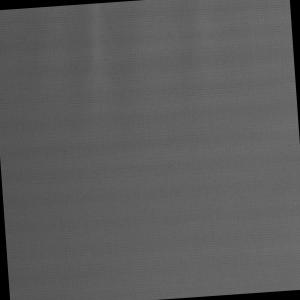Wrinkle: (55, 3, 129, 124)
